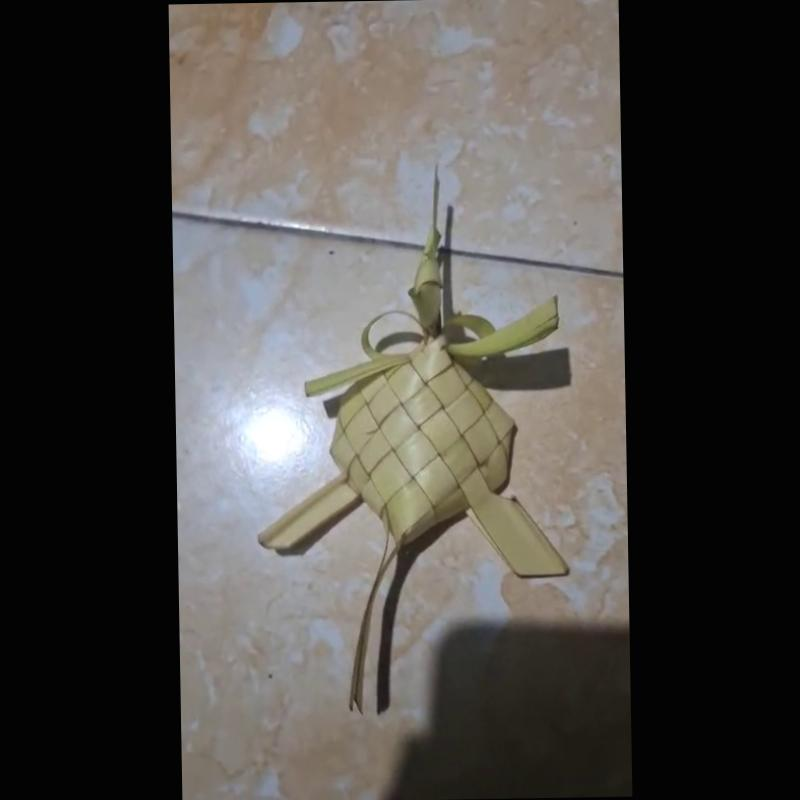Tipat Dampulan: (251, 155, 576, 717)
